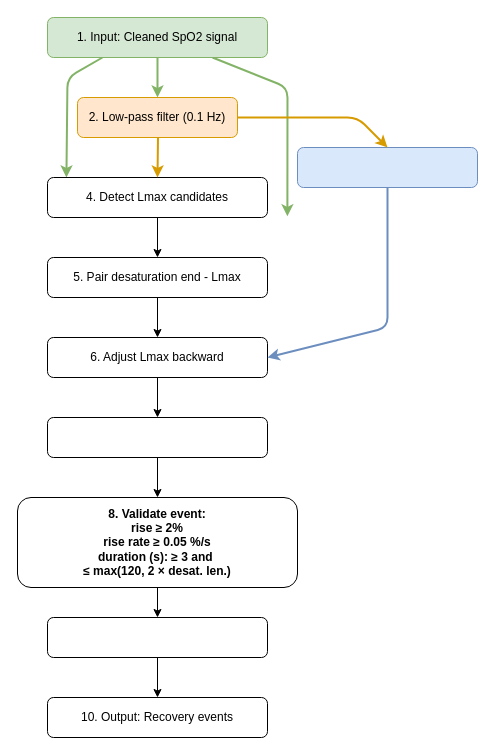
The diagram is 495 pixels wide and 755 high, and some of its shapes have lost their labels. The centre of each missing label's shape, as x and y in pixels:
"3. Round + derivative" belongs at (x=387, y=167).
"7. Correct peaks on raw signal" belongs at (x=157, y=437).
"9. Resolve overlaps" belongs at (x=157, y=637).
